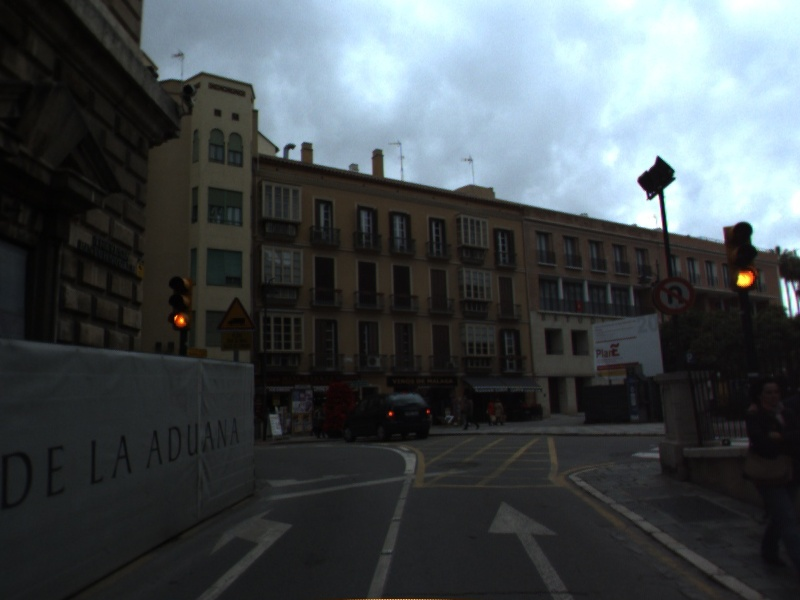LEFT: (191, 506, 297, 600)
STRAIGHT: (483, 496, 576, 600)
